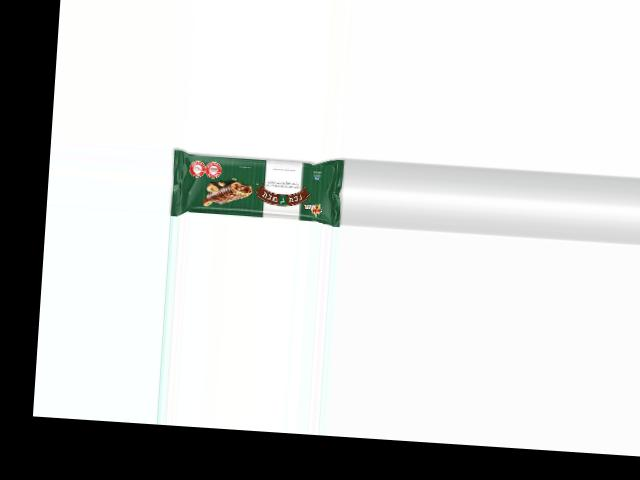chocolate: (168, 145, 347, 227)
